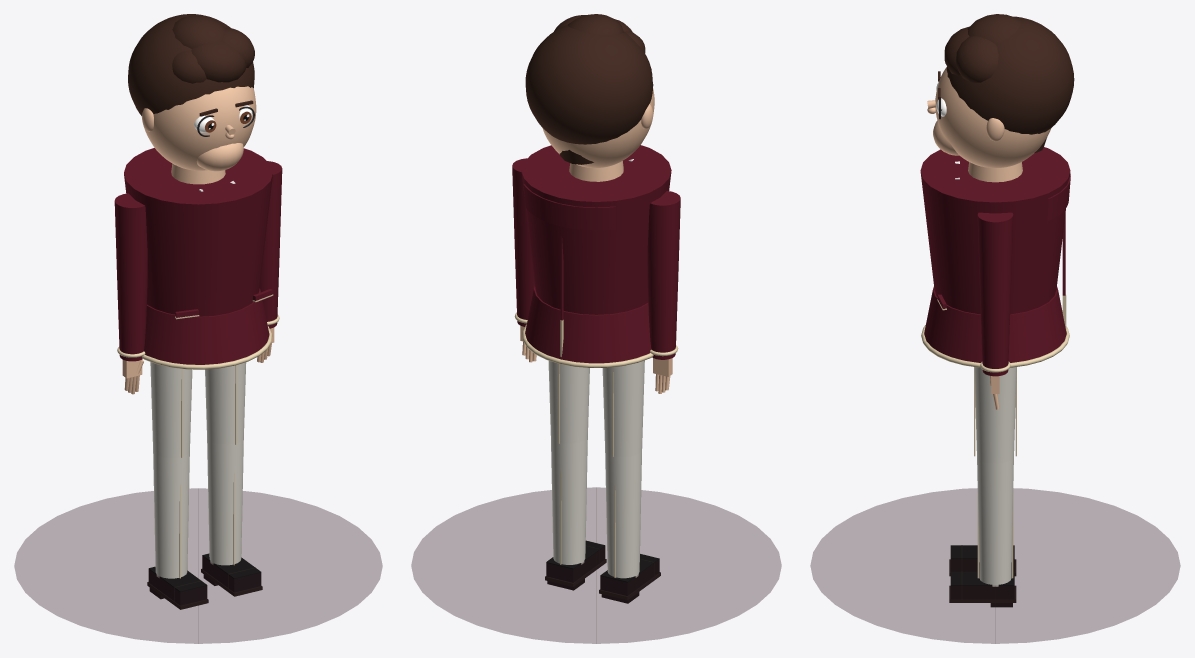
The model's file is campus_guide.glb.
The picture shows the model from 3 angles, left to right: view 1: azimuth 30°, elevation 25°; view 2: azimuth 150°, elevation 25°; view 3: azimuth 270°, elevation 25°; orthographic projection.
Parts seen in each view (by area): view 1: groundShadow, torsoMesh, jacketSkirt, head, hairBase, rightShinMesh, leftShinMesh, leftThighMesh, rightThighMesh, leftUpperArmMesh, leftForearmMesh, hairLock1 (+10 smaller); view 2: groundShadow, torsoMesh, hairBase, jacketSkirt, leftShinMesh, rightShinMesh, leftThighMesh, rightThighMesh, leftUpperArmMesh, backYoke, head, leftForearmMesh (+7 smaller); view 3: groundShadow, torsoMesh, hairBase, jacketSkirt, head, rightShinMesh, rightThighMesh, rightUpperArmMesh, rightForearmMesh, hairLock2, rightShoeBody, hairLock4 (+5 smaller).
Boxes of the visible parts, <box> form: groundShadow: <box>14,488,382,643</box>; torsoMesh: <box>124,148,272,316</box>; jacketSkirt: <box>144,288,269,364</box>; head: <box>141,86,256,170</box>; hairBase: <box>128,14,254,115</box>; rightShinMesh: <box>207,437,243,565</box>; leftShinMesh: <box>153,450,189,578</box>; leftThighMesh: <box>150,362,192,457</box>; rightThighMesh: <box>205,362,246,444</box>; leftUpperArmMesh: <box>114,193,147,287</box>; leftForearmMesh: <box>117,282,147,361</box>; hairLock1: <box>191,41,246,82</box>; groundShadow: <box>411,487,781,643</box>; torsoMesh: <box>521,145,671,314</box>; hairBase: <box>525,25,652,144</box>; jacketSkirt: <box>525,286,651,363</box>; leftShinMesh: <box>605,449,641,578</box>; rightShinMesh: <box>551,436,587,564</box>; leftThighMesh: <box>602,360,644,456</box>; rightThighMesh: <box>548,361,589,443</box>; leftUpperArmMesh: <box>647,191,680,285</box>; backYoke: <box>523,184,615,230</box>; head: <box>542,88,654,167</box>; leftForearmMesh: <box>647,279,678,359</box>; groundShadow: <box>810,488,1180,643</box>; torsoMesh: <box>920,147,1070,314</box>; hairBase: <box>946,16,1074,134</box>; jacketSkirt: <box>924,287,1066,362</box>; head: <box>935,67,1050,167</box>; rightShinMesh: <box>977,456,1013,586</box>; rightThighMesh: <box>974,367,1016,463</box>; rightUpperArmMesh: <box>977,212,1013,301</box>; rightForearmMesh: <box>980,297,1010,376</box>; hairLock2: <box>956,36,998,82</box>; rightShoeBody: <box>950,571,1014,599</box>; hairLock4: <box>967,14,1020,43</box>.
Bounding box in the file's own units: 1.16 × 1.97 × 1.16.
